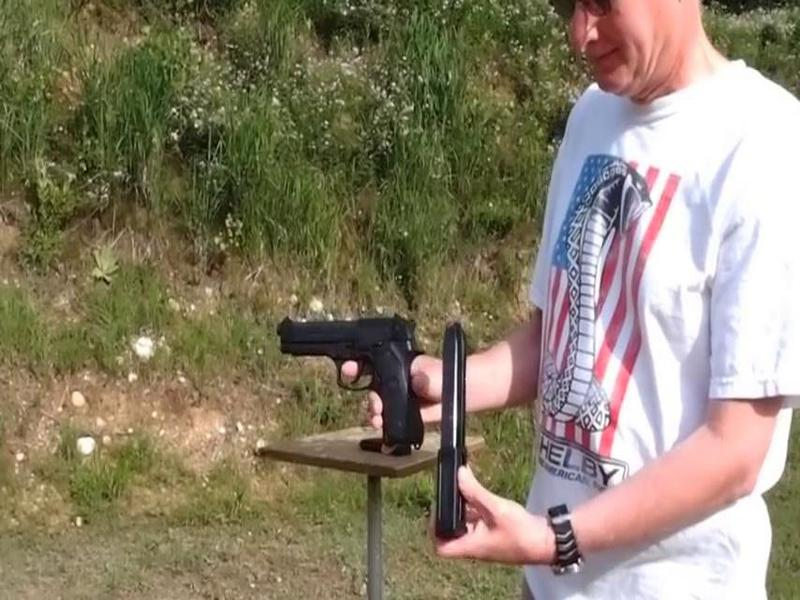Pistola: (272, 303, 432, 446)
